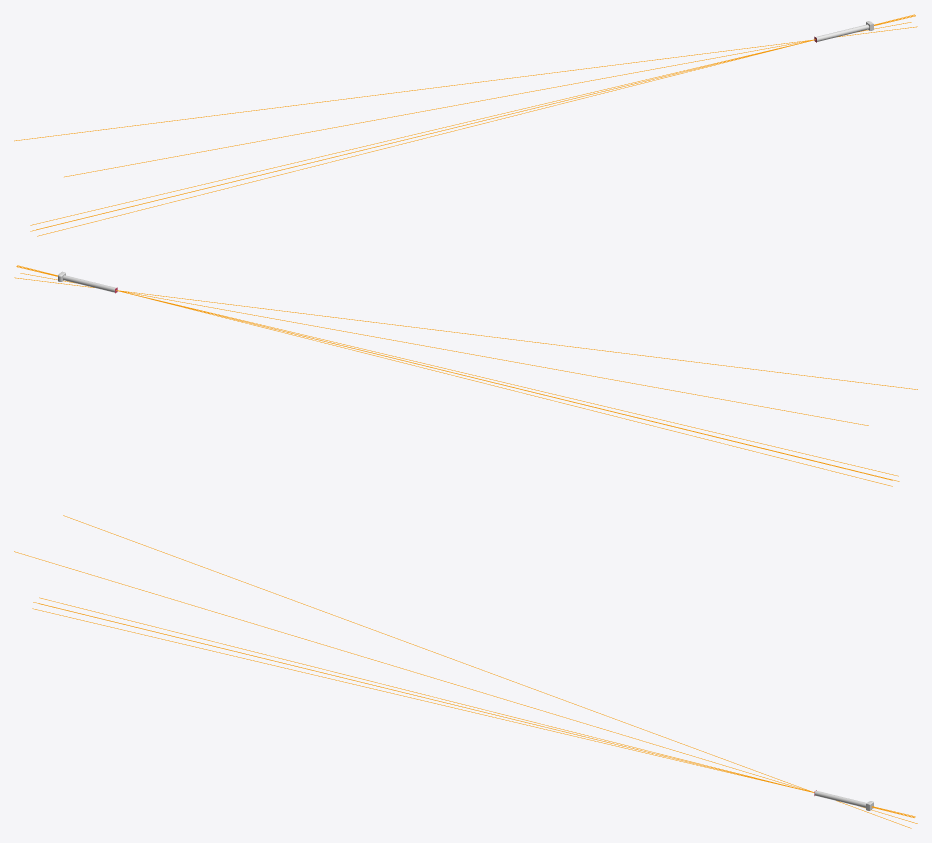
File: f-number-original.glb
3 views of the same model, one above another, from view 1: azimuth 30°, elevation 25°; view 2: azimuth 150°, elevation 25°; view 3: azimuth 330°, elevation 25° (orthographic).
Parts seen in each view (by area): view 1: Ray, Ray.003, Ray.004, Ray.001, Ray.002; view 2: Ray.001, Ray, Ray.005, Ray.002, Ray.004, Ray.003; view 3: Ray.001, Ray, Ray.003, Ray.004, Ray.002.
Boxes of the visible parts, bbox=[...] form: Ray: bbox=[14, 26, 917, 141]; Ray.003: bbox=[37, 14, 914, 236]; Ray.004: bbox=[30, 16, 915, 225]; Ray.001: bbox=[64, 22, 911, 177]; Ray.002: bbox=[36, 41, 809, 229]; Ray.001: bbox=[14, 277, 917, 389]; Ray: bbox=[20, 273, 868, 425]; Ray.005: bbox=[17, 265, 892, 486]; Ray.002: bbox=[16, 266, 898, 476]; Ray.004: bbox=[120, 291, 892, 480]; Ray.003: bbox=[16, 266, 899, 481]; Ray.001: bbox=[14, 551, 917, 823]; Ray: bbox=[63, 515, 911, 828]; Ray.003: bbox=[32, 608, 915, 816]; Ray.004: bbox=[39, 597, 914, 817]; Ray.002: bbox=[33, 602, 915, 817].
Size of the model in its own units: 15.83 by 1.39 by 1.54.
